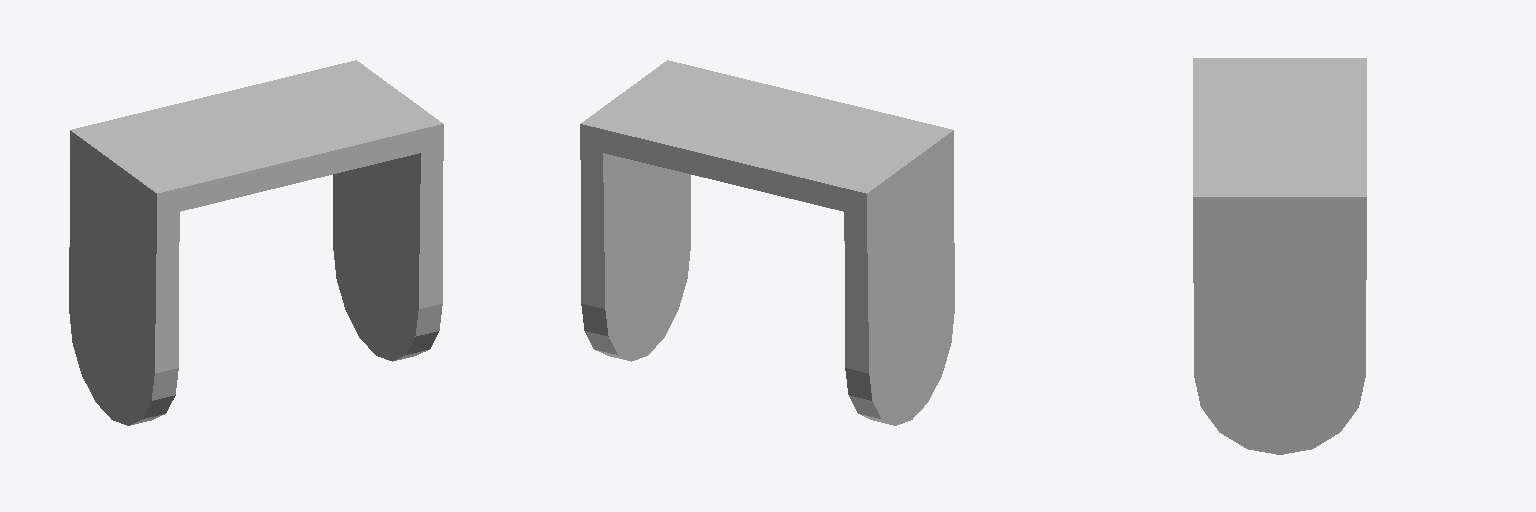
Rendered from rightWrist.obj.
3 views of the same model, side by side, from view 1: azimuth 30°, elevation 25°; view 2: azimuth 150°, elevation 25°; view 3: azimuth 270°, elevation 25° (orthographic).
Bounding box in the file's own units: 3.82 × 3.27 × 2.